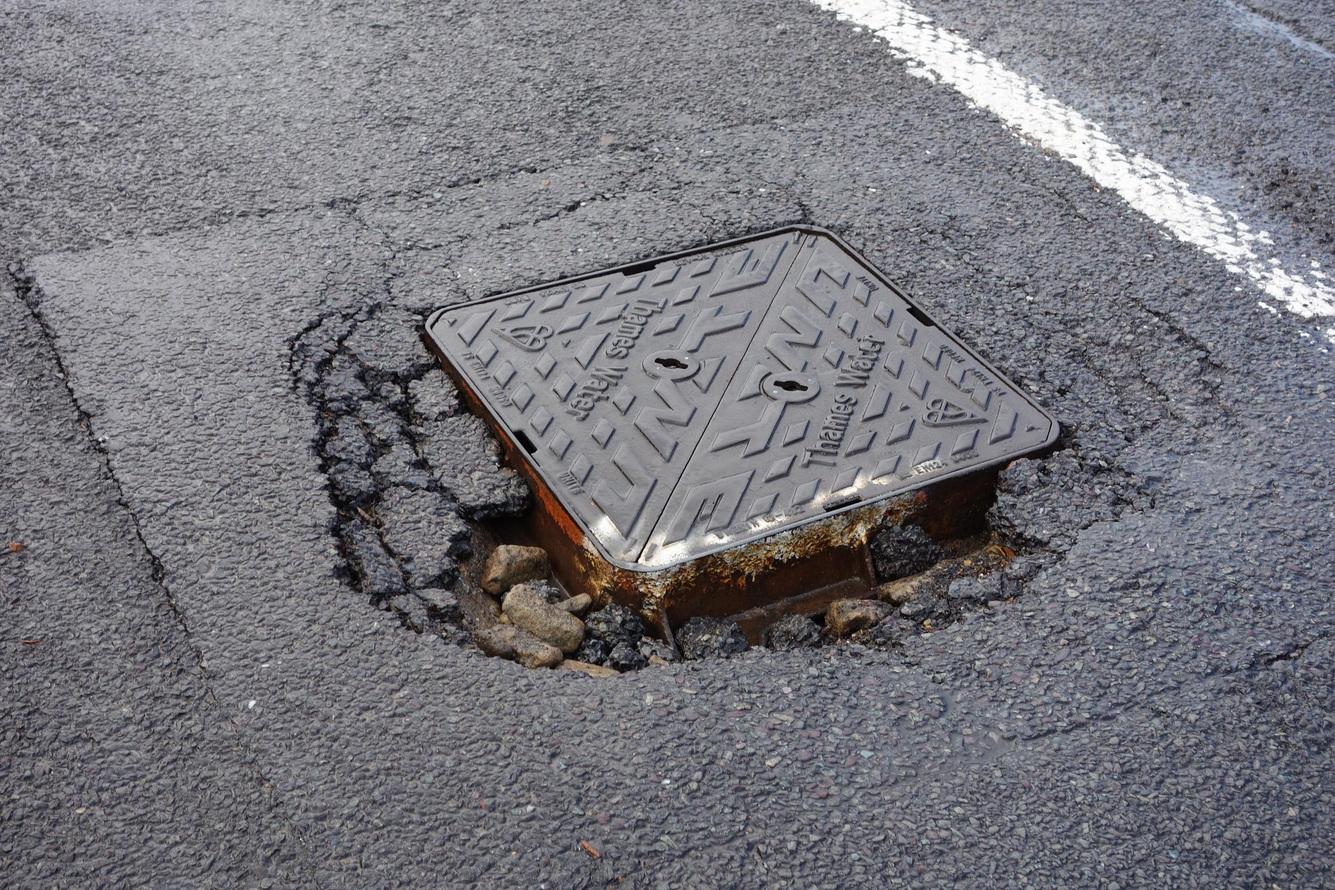closed manhole-not overflowing-: (351, 180, 1177, 676)
